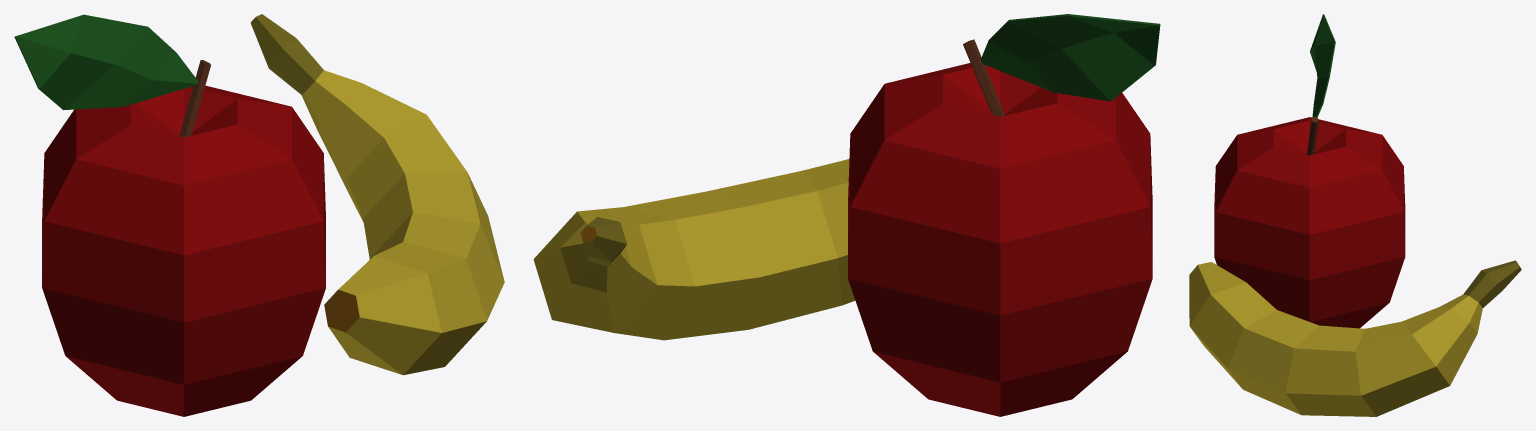
Rendered from appleBanana.glb.
The picture shows the model from 3 angles, left to right: view 1: azimuth 30°, elevation 25°; view 2: azimuth 150°, elevation 25°; view 3: azimuth 270°, elevation 25°; orthographic projection. The views are drawn at different scales.
Visible parts, largest first — view 1: Vert; view 2: Vert; view 3: Vert.
Part boxes in pixels (x1=…): Vert: x1=14, y1=14, x2=504, y2=416; Vert: x1=533, y1=14, x2=1160, y2=416; Vert: x1=1189, y1=14, x2=1521, y2=416.
Size of the model in its own units: 56.24 by 41.41 by 48.01.
